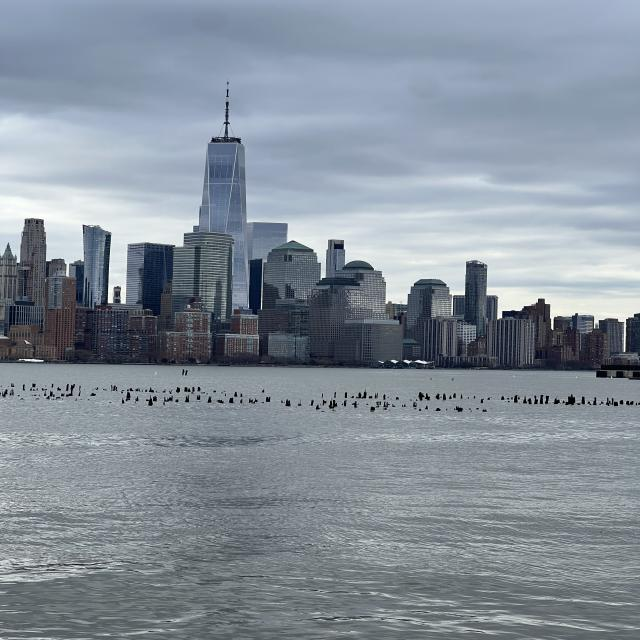WTC: (200, 80, 250, 233)
